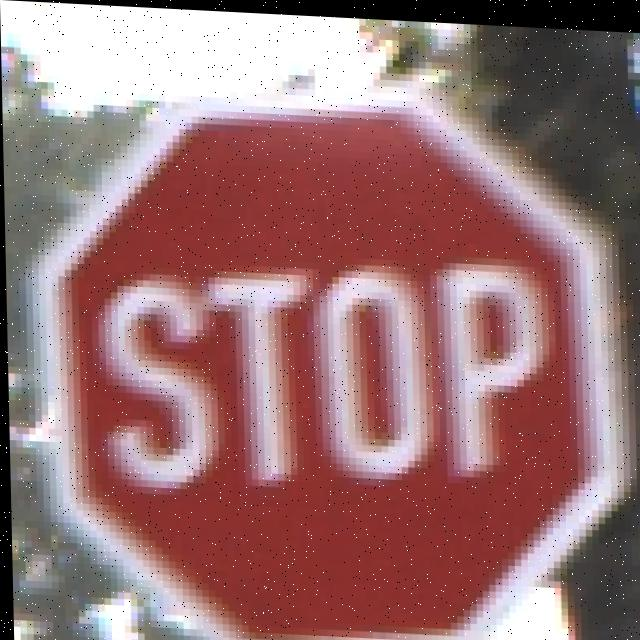stop: (28, 87, 640, 640)
